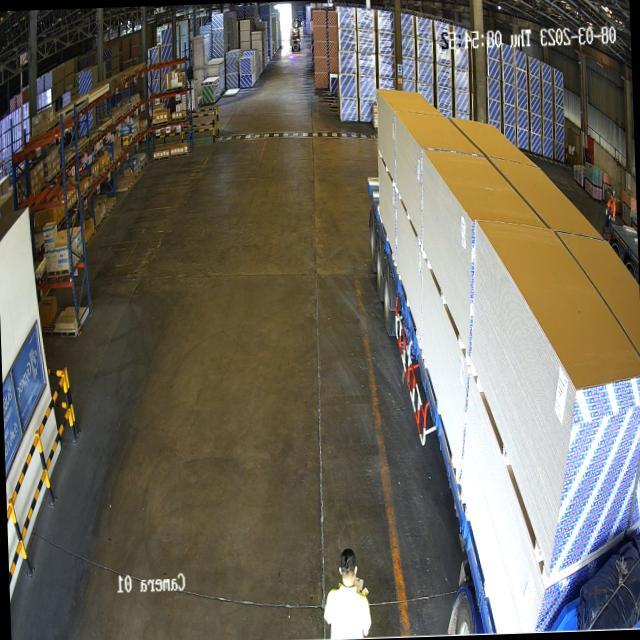person: (319, 543, 374, 640), (604, 191, 615, 222)
